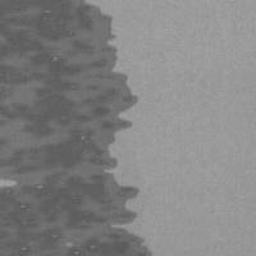Water spot: (0, 0, 154, 256)
